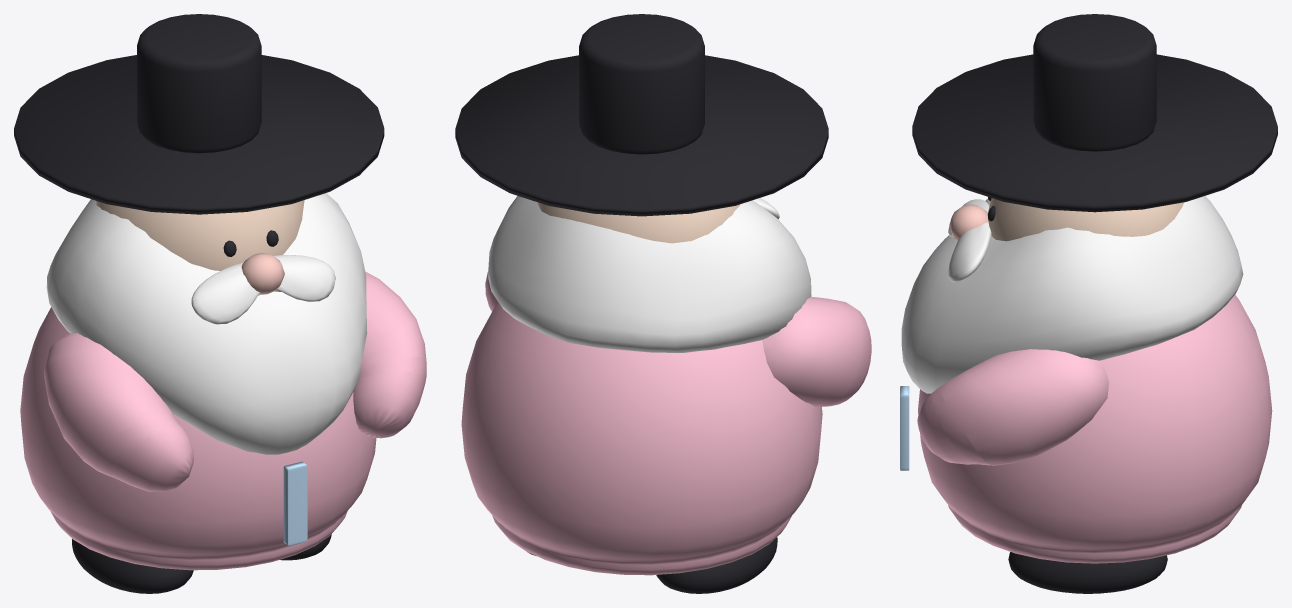
Rendered from hanbok.glb.
3 views of the same model, side by side, from view 1: azimuth 30°, elevation 25°; view 2: azimuth 150°, elevation 25°; view 3: azimuth 270°, elevation 25° (orthographic). The views are drawn at different scales.
Visible parts, largest first — view 1: hanbok_red, hanbok_black, hanbok_white, hanbok_skin, hanbok_sky, hanbok_nose; view 2: hanbok_red, hanbok_black, hanbok_white, hanbok_skin; view 3: hanbok_red, hanbok_black, hanbok_white, hanbok_skin, hanbok_nose, hanbok_sky.
Part boxes in pixels (x1,y1,x2,y2): hanbok_red: [20, 271, 426, 570]; hanbok_black: [14, 14, 384, 593]; hanbok_white: [46, 193, 367, 454]; hanbok_skin: [96, 200, 304, 270]; hanbok_sky: [283, 461, 307, 545]; hanbok_nose: [241, 253, 284, 294]; hanbok_red: [461, 271, 871, 575]; hanbok_black: [455, 14, 828, 593]; hanbok_white: [488, 196, 811, 352]; hanbok_skin: [537, 202, 740, 243]; hanbok_red: [917, 294, 1272, 563]; hanbok_black: [912, 14, 1277, 593]; hanbok_white: [901, 196, 1243, 393]; hanbok_skin: [987, 198, 1183, 241]; hanbok_nose: [949, 204, 988, 240]; hanbok_sky: [900, 386, 909, 470].
Size of the model in its own units: 2.14 by 3.02 by 2.03.
